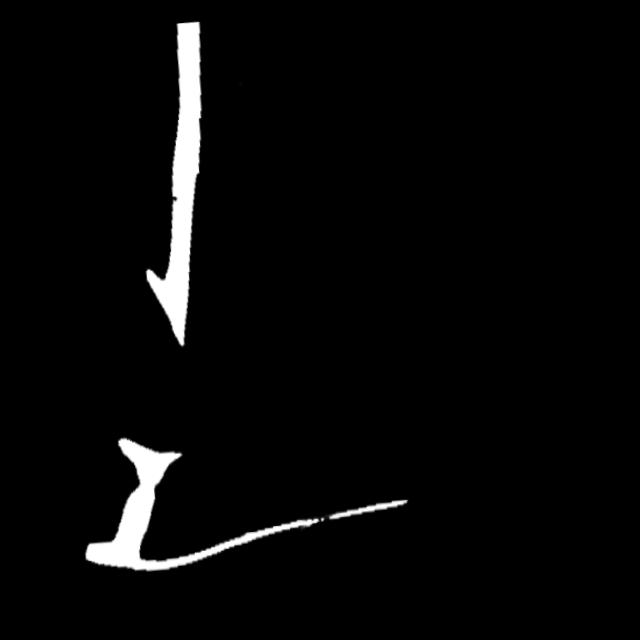inf: (310, 503, 345, 525)
